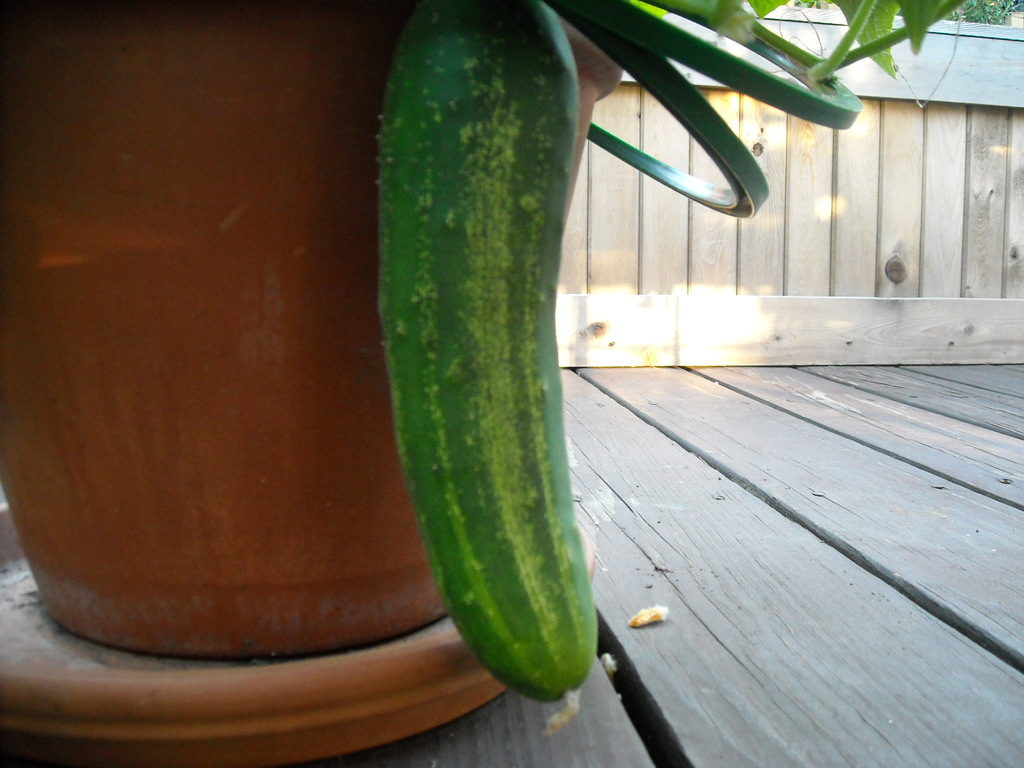cucumber: (370, 0, 598, 696)
